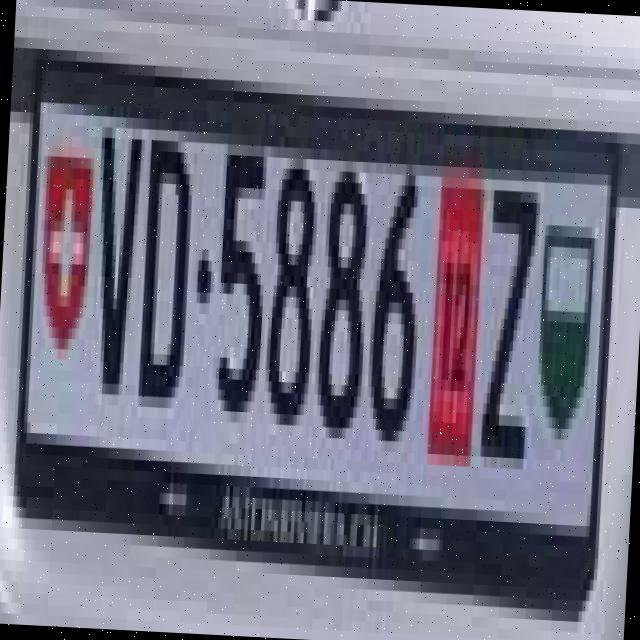Autre: (24, 104, 612, 547)
